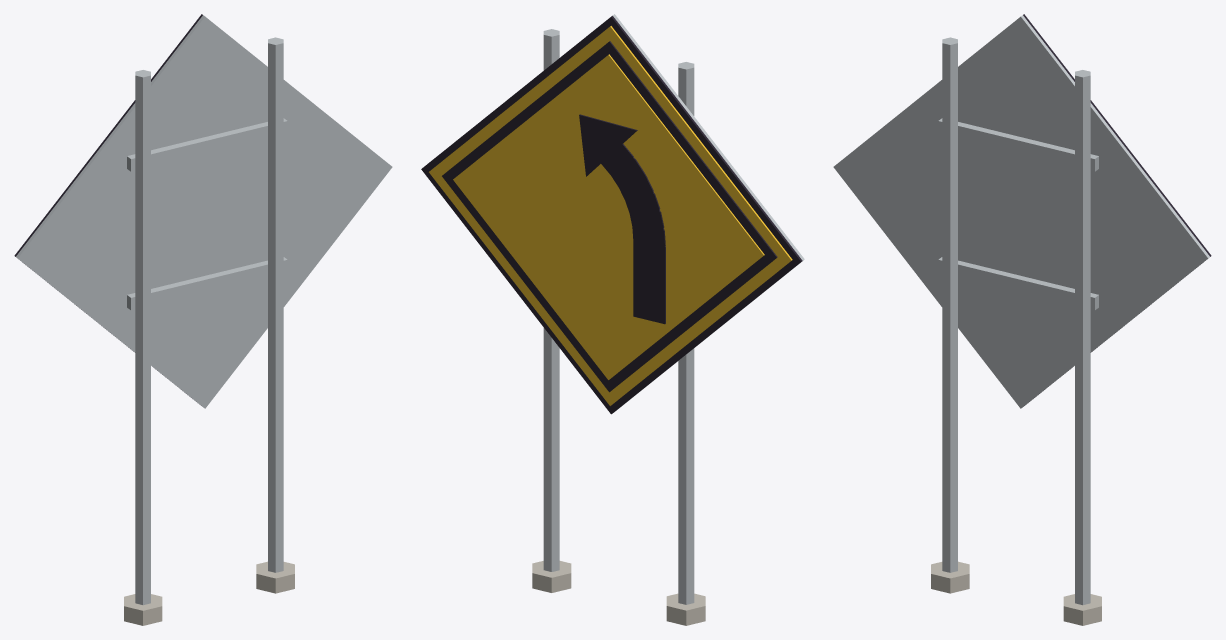
File: corner_warn_curve_left.glb
The picture shows the model from 3 angles, left to right: view 1: azimuth 30°, elevation 25°; view 2: azimuth 150°, elevation 25°; view 3: azimuth 330°, elevation 25°; orthographic projection.
Visible parts, largest first — view 1: corner_warn_curve_left; view 2: corner_warn_curve_left; view 3: corner_warn_curve_left.
Part boxes in pixels (bbox=[...]): corner_warn_curve_left: bbox=[14, 14, 392, 625]; corner_warn_curve_left: bbox=[421, 14, 804, 625]; corner_warn_curve_left: bbox=[833, 14, 1211, 625].
Bounding box in the file's own units: 3.11 × 4.61 × 0.2996.
